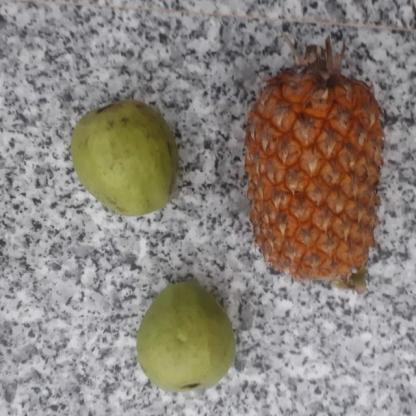guava: (72, 100, 186, 217), (134, 285, 240, 390)
pineapple: (248, 53, 384, 295)
